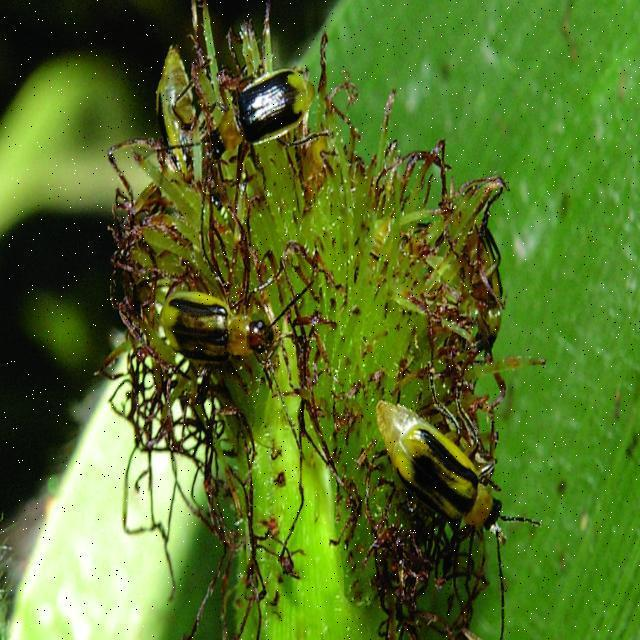trips: (376, 395, 541, 640), (144, 67, 310, 278), (162, 277, 316, 393)
